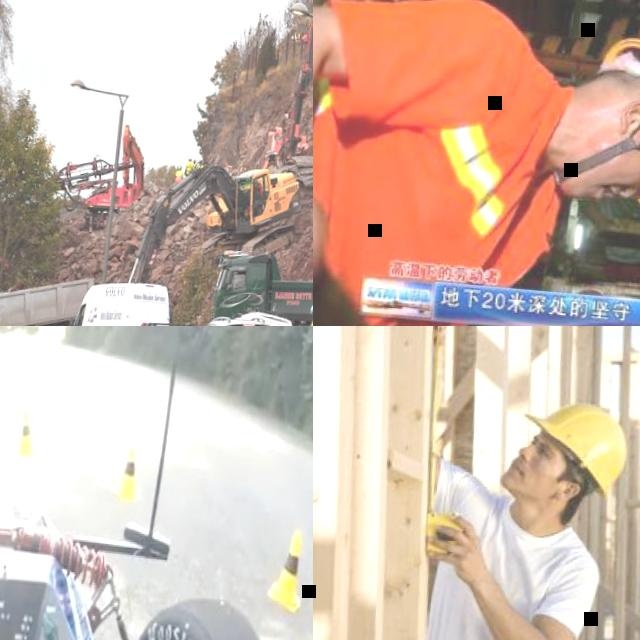Hardhat: (515, 396, 633, 500), (587, 31, 640, 216), (309, 304, 313, 313), (255, 181, 259, 187), (193, 157, 197, 162), (188, 156, 193, 160), (177, 164, 181, 169), (199, 158, 203, 162)
NO-Mask: (559, 104, 632, 205), (495, 454, 552, 498), (312, 313, 313, 318)
NO-Safety Vest: (408, 459, 586, 640)
Person: (313, 0, 640, 326), (382, 326, 640, 640), (254, 181, 265, 199), (184, 155, 193, 175), (175, 164, 184, 179), (309, 304, 313, 326), (197, 157, 204, 169), (192, 156, 197, 168)
Safety Cone: (256, 505, 313, 609), (110, 432, 149, 509), (4, 399, 44, 452)
Safety Vest: (313, 69, 559, 326), (255, 183, 264, 198), (184, 161, 193, 174), (175, 169, 183, 177), (309, 313, 313, 326), (198, 162, 204, 168), (192, 163, 195, 169)
machinery: (127, 157, 313, 300), (37, 116, 150, 235), (261, 14, 313, 172), (210, 247, 313, 326), (0, 263, 93, 326)
vehicle: (0, 326, 313, 640), (61, 276, 173, 326), (236, 310, 294, 326)
